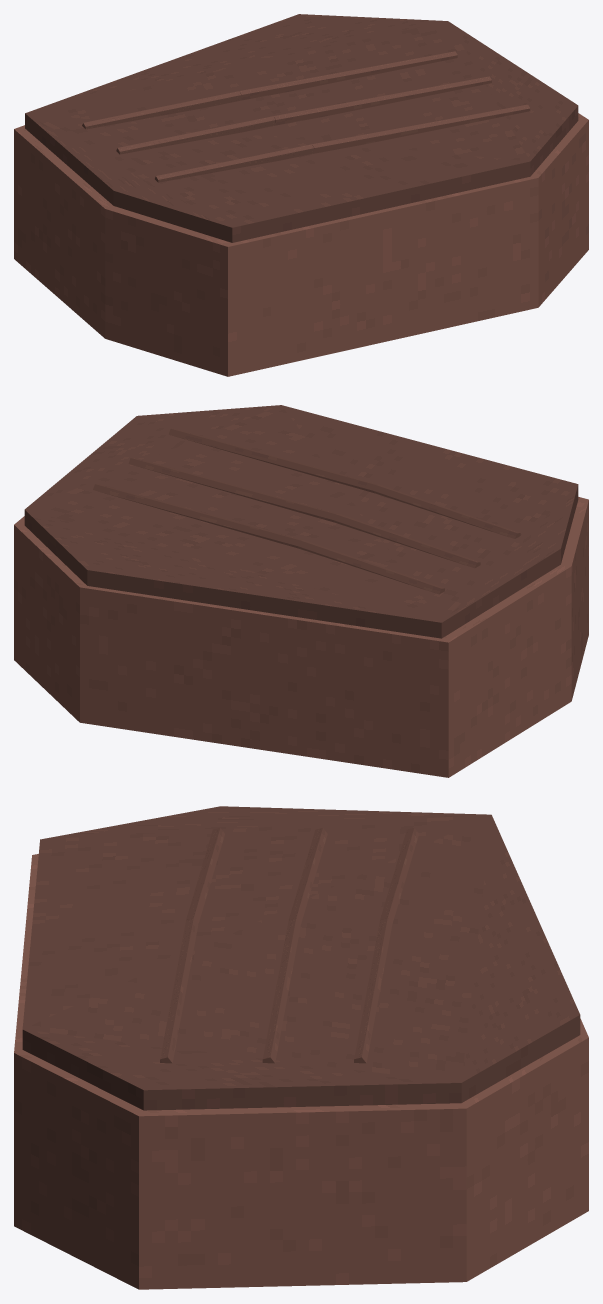
File: meat_smoked.glb
3 views of the same model, one above another, from view 1: azimuth 30°, elevation 25°; view 2: azimuth 150°, elevation 25°; view 3: azimuth 270°, elevation 25° (orthographic). The views are drawn at different scales.
Visible parts, largest first — view 1: block_cut meat surface, block_outer glaze or rind, block_rind grain 1 (×3), block_rind grain 0 (×3); view 2: block_cut meat surface, block_outer glaze or rind, block_rind grain 1 (×3), block_rind grain 0 (×3); view 3: block_outer glaze or rind, block_cut meat surface, block_rind grain 1 (×3), block_rind grain 0 (×3).
Part boxes in pixels (left/top/right/bottom): block_cut meat surface: left=14, top=113, right=588, bottom=376; block_outer glaze or rind: left=25, top=14, right=578, bottom=242; block_rind grain 1 (×3): left=239, top=51, right=530, bottom=153; block_rind grain 0 (×3): left=82, top=91, right=314, bottom=182; block_cut meat surface: left=14, top=497, right=588, bottom=777; block_outer glaze or rind: left=24, top=405, right=578, bottom=638; block_rind grain 1 (×3): left=93, top=428, right=378, bottom=548; block_rind grain 0 (×3): left=298, top=484, right=520, bottom=594; block_outer glaze or rind: left=22, top=806, right=580, bottom=1110; block_cut meat surface: left=14, top=854, right=588, bottom=1289; block_rind grain 1 (×3): left=160, top=918, right=392, bottom=1063; block_rind grain 0 (×3): left=186, top=828, right=418, bottom=923.
Size of the model in its own units: 0.1197 by 0.0386 by 0.0983.
1 material, 1 textured.
